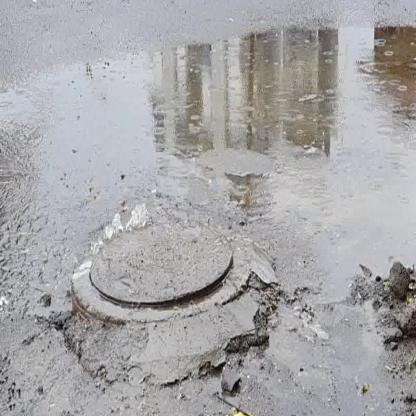drainage overflow-repair-: (54, 188, 246, 317)
